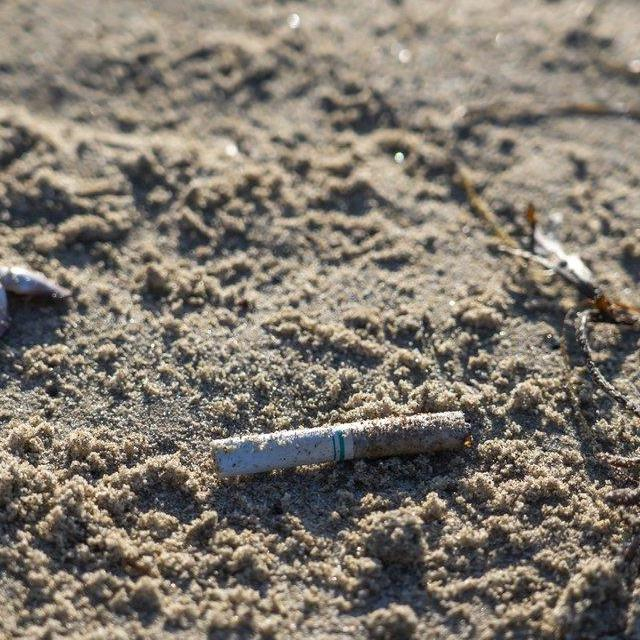Cigarette Butt: (208, 409, 469, 480)
